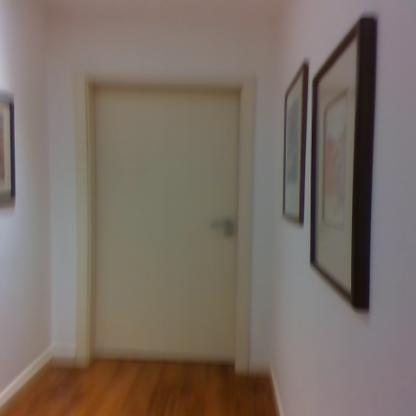door: (94, 88, 238, 361)
lever: (210, 222, 234, 230)
